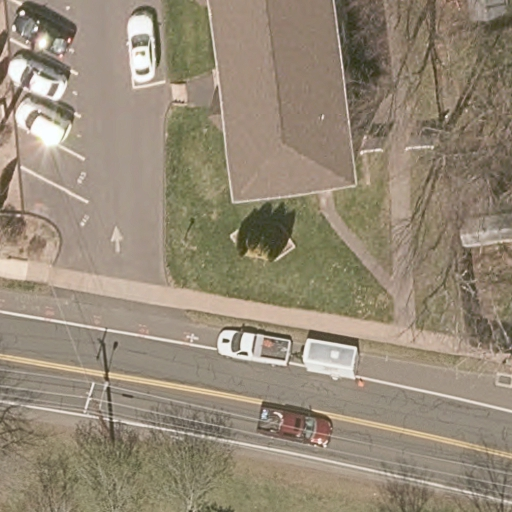DT: (82, 380, 114, 443)
